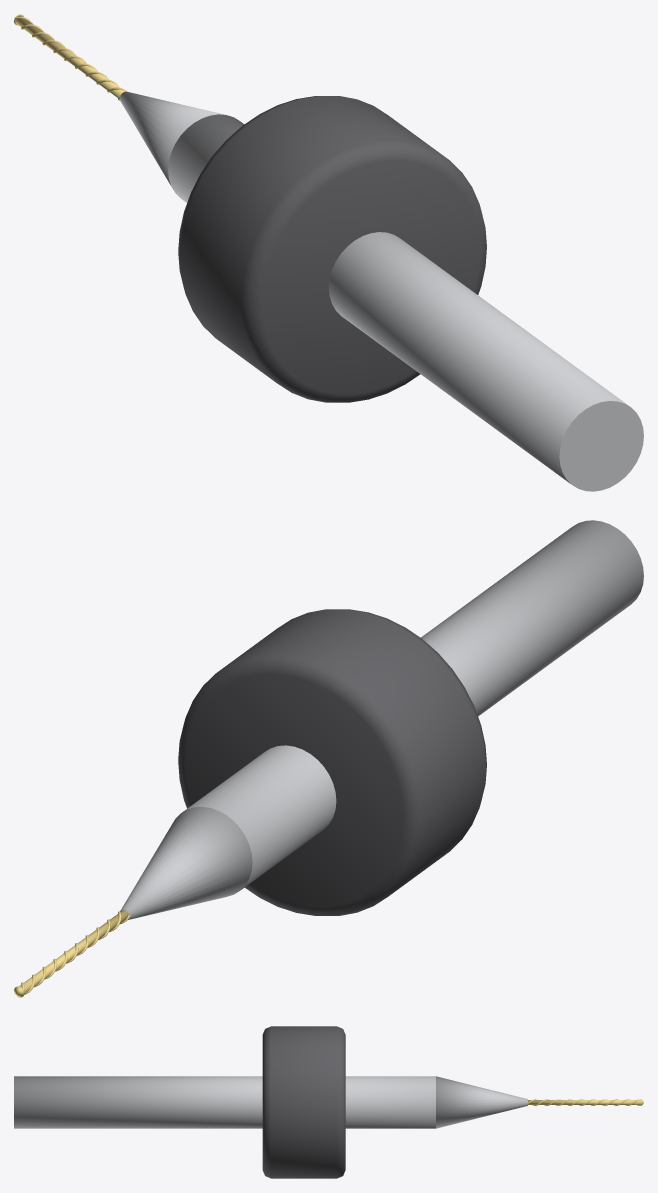
Rendered from drill18_0p4.glb.
3 views of the same model, one above another, from view 1: azimuth 30°, elevation 25°; view 2: azimuth 150°, elevation 25°; view 3: azimuth 270°, elevation 25° (orthographic). The views are drawn at different scales.
Parts seen in each view (by area): view 1: Cylinder.002, Cylinder.001, Cone, Cylinder; view 2: Cylinder.002, Cylinder.001, Cone, Cylinder; view 3: Cylinder.001, Cylinder.002, Cone, Cylinder.
Part boxes in pixels (box(x1,y1,x2,y2)): Cylinder.002: box(178, 96, 486, 402); Cylinder.001: box(168, 114, 643, 491); Cone: box(119, 91, 225, 185); Cylinder: box(15, 15, 124, 98); Cylinder.002: box(178, 609, 486, 915); Cylinder.001: box(182, 520, 643, 889); Cone: box(120, 806, 252, 919); Cylinder: box(19, 910, 128, 993); Cylinder.001: box(14, 1076, 435, 1128); Cylinder.002: box(262, 1026, 345, 1178); Cone: box(436, 1076, 527, 1128); Cylinder: box(528, 1100, 641, 1104).
Size of the model in its own units: 0.00917 by 0.00917 by 0.038.
